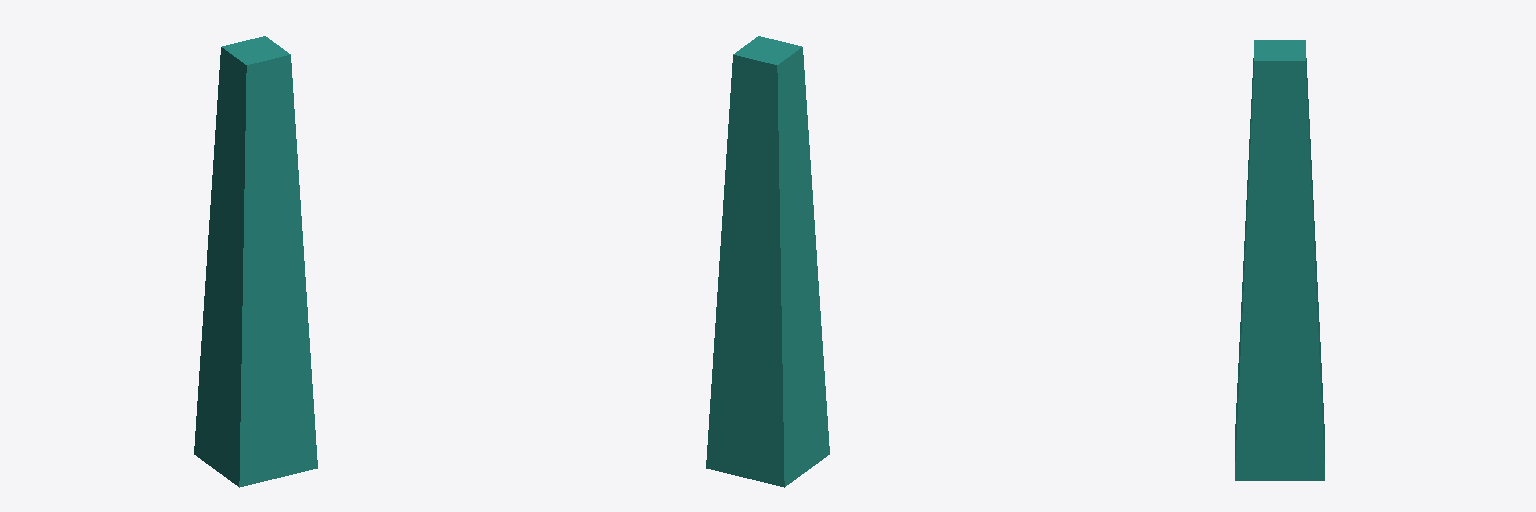
3 views of the same model, side by side, from view 1: azimuth 30°, elevation 25°; view 2: azimuth 150°, elevation 25°; view 3: azimuth 270°, elevation 25° (orthographic).
Parts seen in each view (by area): view 1: Cube; view 2: Cube; view 3: Cube.
Part boxes in pixels (x1,y1,x2,y2): Cube: (194, 36, 317, 487); Cube: (706, 36, 829, 487); Cube: (1235, 40, 1324, 480).
Bounding box in the file's own units: 2 × 9.98 × 2.
1 materials, 1 textured.